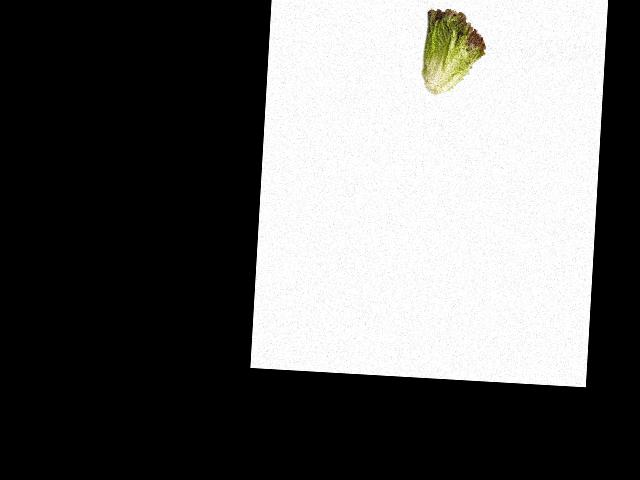lettuce: (422, 6, 486, 96)
